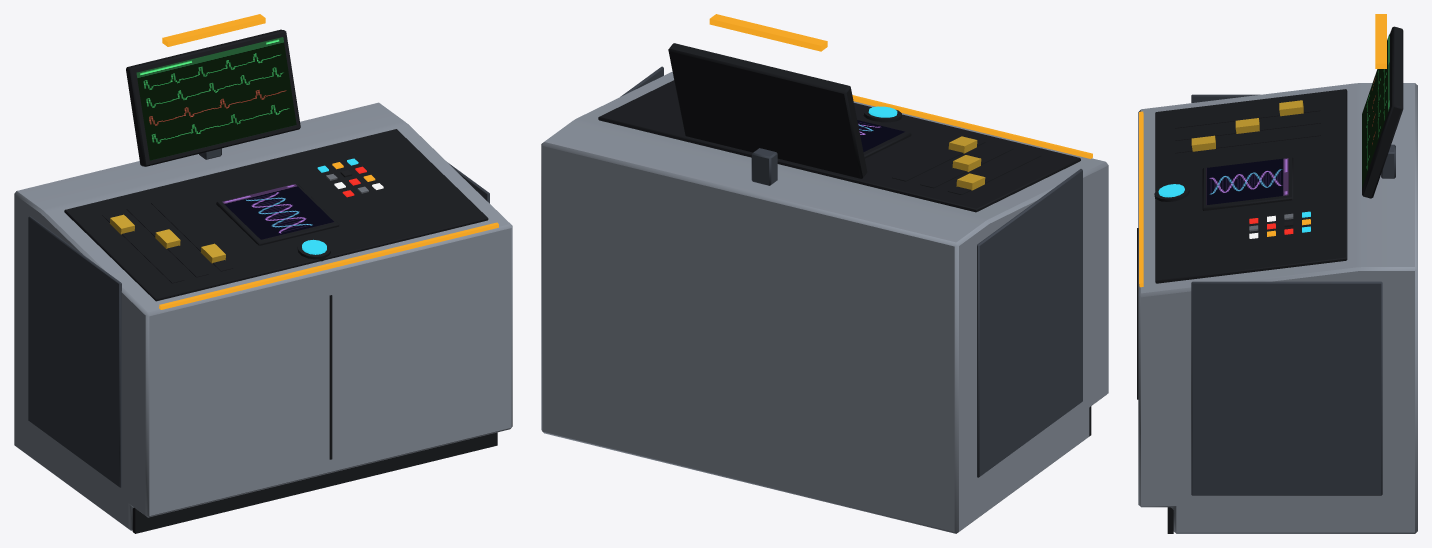
File: console_transporter_control.glb
The picture shows the model from 3 angles, left to right: view 1: azimuth 30°, elevation 25°; view 2: azimuth 150°, elevation 25°; view 3: azimuth 270°, elevation 25°; orthographic projection. The views are drawn at different scales.
Parts seen in each view (by area): view 1: console_transporter_control; view 2: console_transporter_control; view 3: console_transporter_control.
Part boxes in pixels (box(x1,y1,x2,y2)): console_transporter_control: box(14, 14, 512, 533); console_transporter_control: box(541, 14, 1108, 533); console_transporter_control: box(1137, 14, 1417, 533).
Size of the model in its own units: 1.52 by 1.51 by 0.954.
12 materials, 2 textured.
